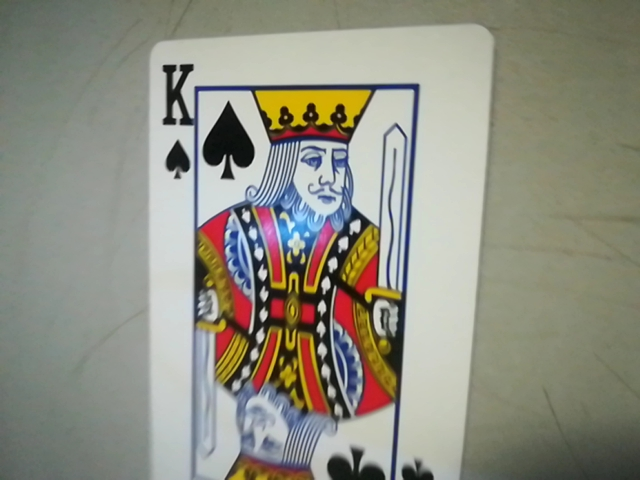ht k: (149, 57, 202, 184)
